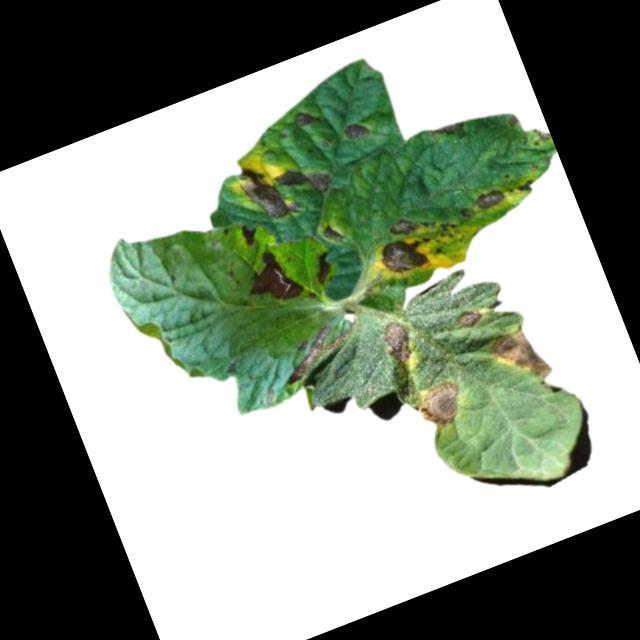Early_blight: (480, 320, 557, 396), (274, 318, 360, 385), (235, 240, 306, 312), (233, 156, 300, 228), (407, 375, 472, 436), (375, 228, 436, 283), (273, 153, 334, 206), (375, 315, 421, 367), (427, 116, 469, 145), (386, 210, 425, 239), (340, 113, 375, 145), (308, 249, 337, 285), (471, 184, 507, 213), (453, 304, 485, 332), (291, 103, 323, 129), (238, 222, 259, 247), (513, 177, 537, 197)
